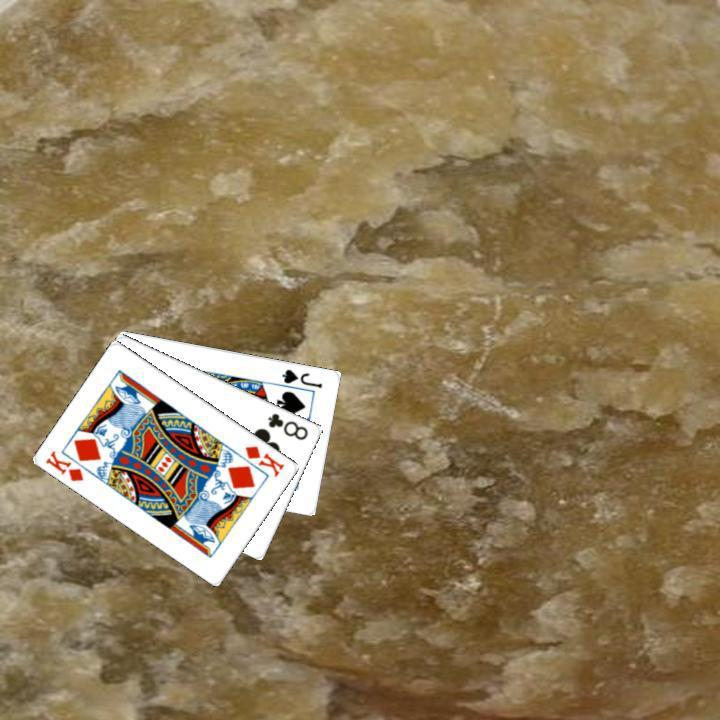8: (264, 409, 311, 442)
J: (278, 364, 324, 390)
K: (241, 441, 287, 479), (41, 446, 86, 483)
